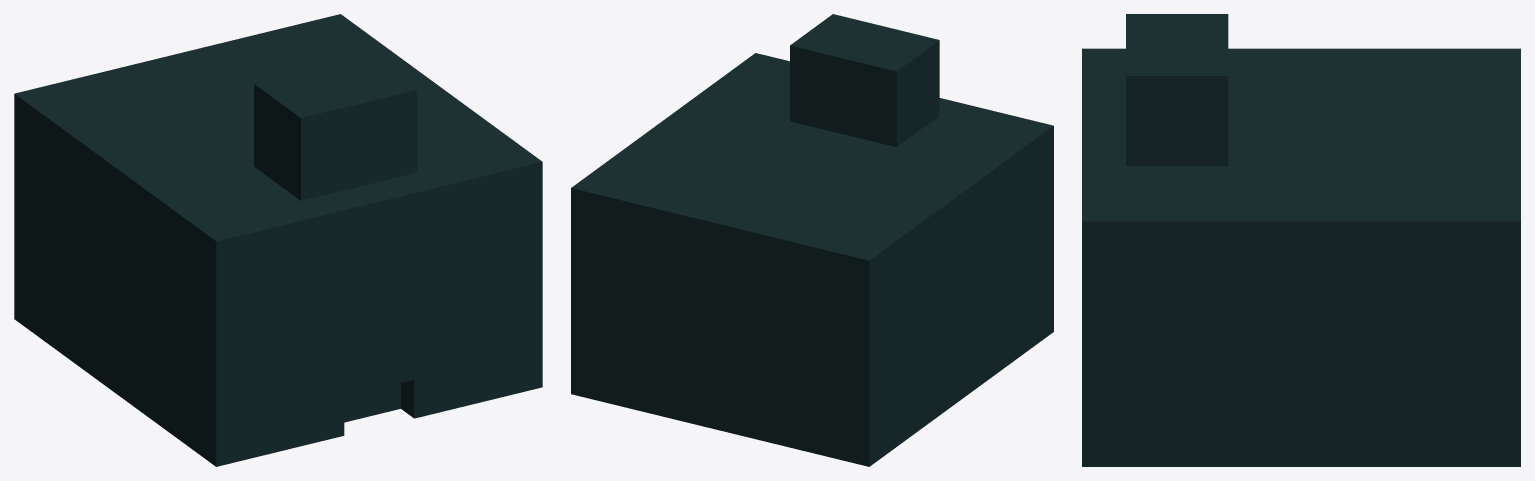
Rendered from oc_hotel_flamingo_01_collision.glb.
The picture shows the model from 3 angles, left to right: view 1: azimuth 30°, elevation 25°; view 2: azimuth 150°, elevation 25°; view 3: azimuth 270°, elevation 25°; orthographic projection. The views are drawn at different scales.
Visible parts, largest first — view 1: COL_Body, COL_FrontL, COL_FrontR, COL_Tower, COL_OverNotch; view 2: COL_Body, COL_Tower, COL_FrontL, COL_FrontR; view 3: COL_Body, COL_Tower, COL_FrontR, COL_FrontL, COL_OverNotch.
Boxes of the visible parts, x1,y1,x2,y2 form: COL_Body: (14,14,528,456); COL_FrontL: (202,200,344,466); COL_FrontR: (401,152,542,418); COL_Tower: (254,55,417,200); COL_OverNotch: (331,183,414,396); COL_Body: (571,62,1041,466); COL_Tower: (790,14,939,147); COL_FrontL: (939,98,1053,340); COL_FrontR: (743,53,789,73); COL_Body: (1111,48,1520,466); COL_Tower: (1126,14,1228,165); COL_FrontR: (1082,153,1111,466); COL_FrontL: (1082,48,1111,116); COL_OverNotch: (1082,116,1111,153).
Size of the model in its own units: 28 by 25.3 by 30.
